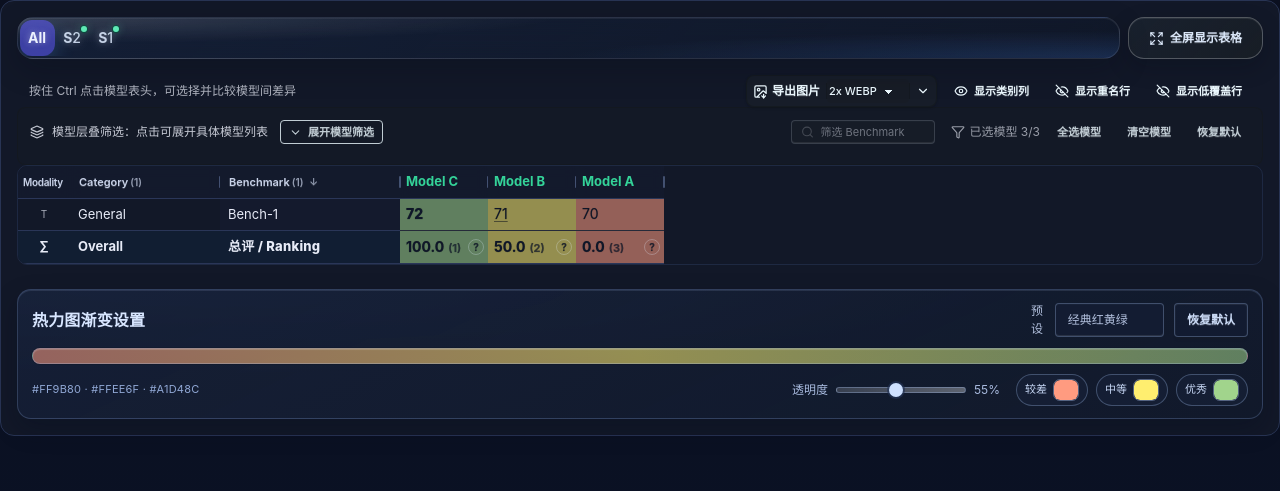
Test case: BenchmarkMatrix 模型筛选按页签记忆 › shift 点击表头可取消该模型筛选
Click the button "展开模型筛选" at (332, 132), box [280,120,383,144]
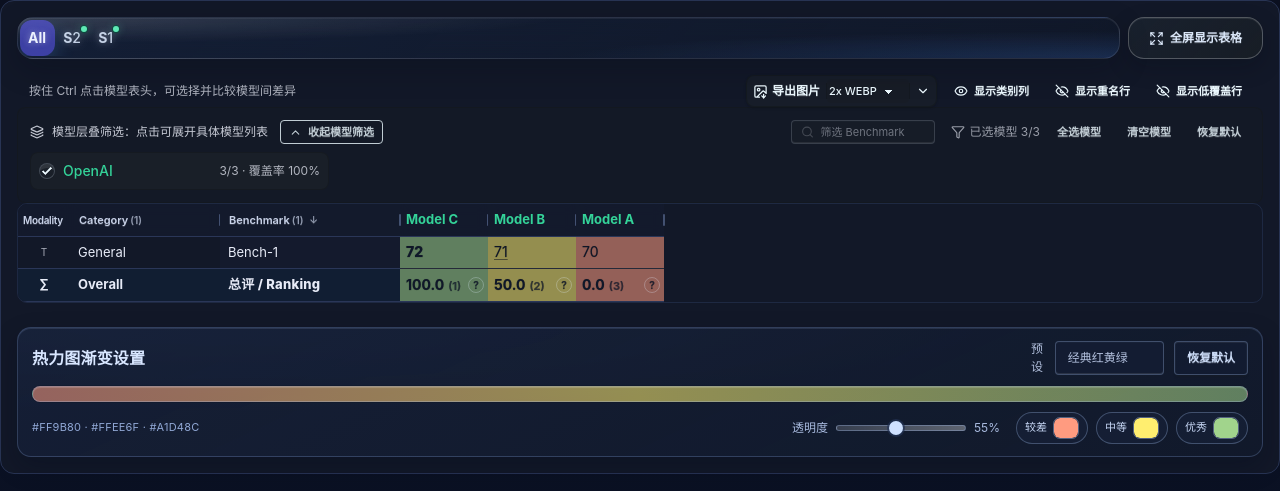
Expected: the text "已选模型 3/3" is shown, [951,124,1040,140]
Click the column heading "Model A" at (620, 220), box [576,204,664,236]
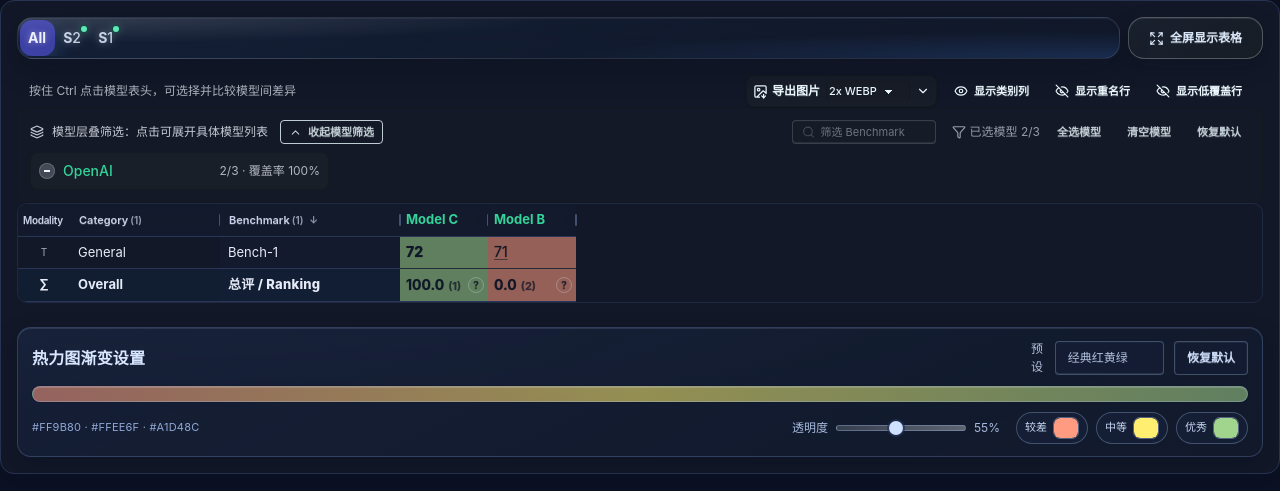
Result: the text "已选模型 2/3" is shown at [952,124,1040,140]
